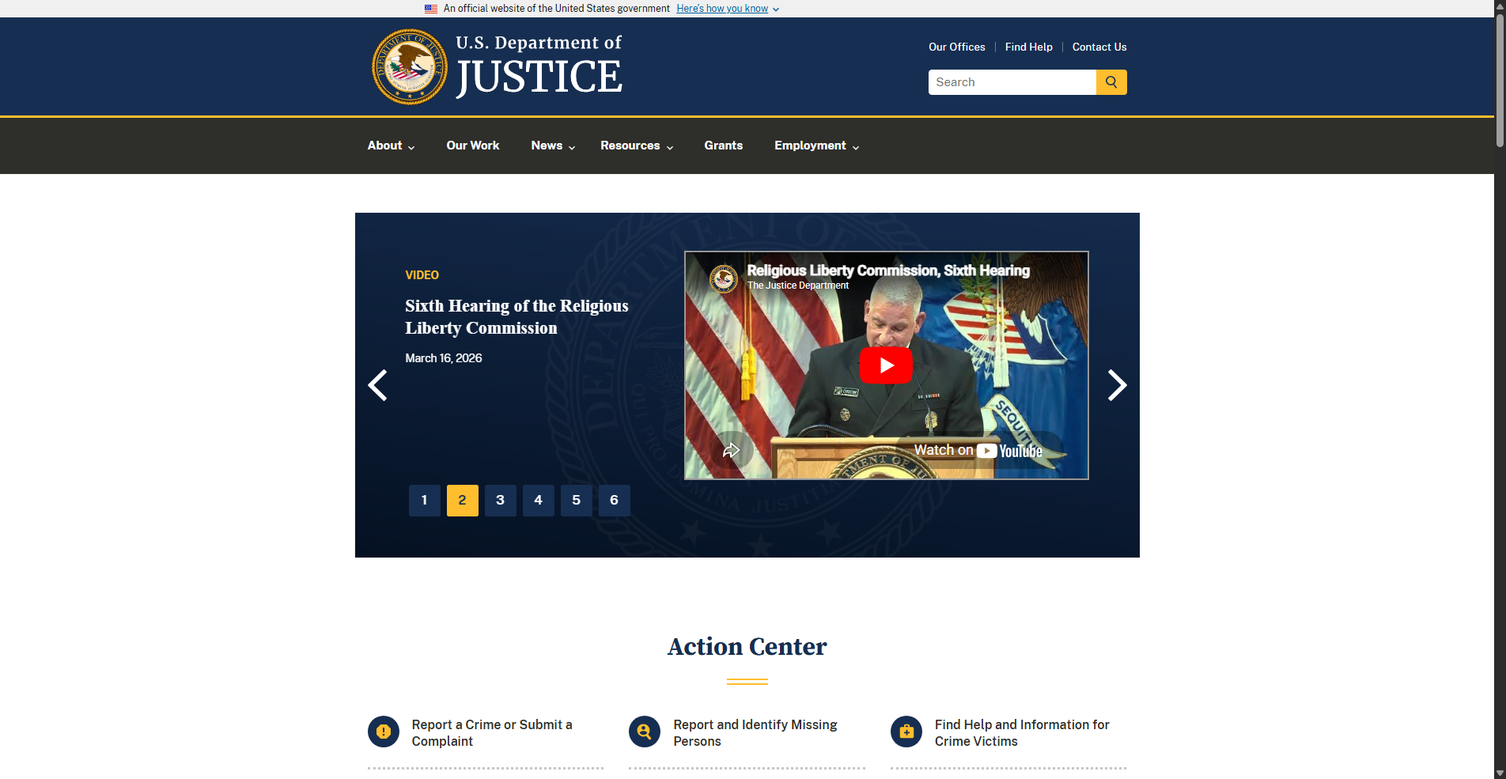button: (762, 118, 871, 174), (588, 118, 685, 174), (355, 118, 427, 174), (518, 118, 588, 174), (676, 3, 768, 15), (361, 369, 393, 401), (1101, 369, 1133, 401), (676, 3, 768, 14), (484, 485, 516, 516), (522, 485, 554, 516), (560, 485, 592, 516), (598, 485, 630, 516), (409, 485, 440, 516), (447, 485, 478, 516), (1096, 70, 1127, 95)
input: (929, 70, 1096, 95)
link: (0, 213, 355, 557), (405, 295, 657, 340), (1190, 295, 1442, 340), (412, 705, 604, 763), (673, 705, 865, 763), (935, 705, 1127, 763), (367, 83, 624, 112), (427, 118, 518, 174), (685, 118, 762, 174), (1164, 716, 1215, 767), (412, 773, 604, 779), (673, 773, 865, 779), (929, 41, 985, 53), (1072, 41, 1127, 53), (1005, 41, 1053, 53)
